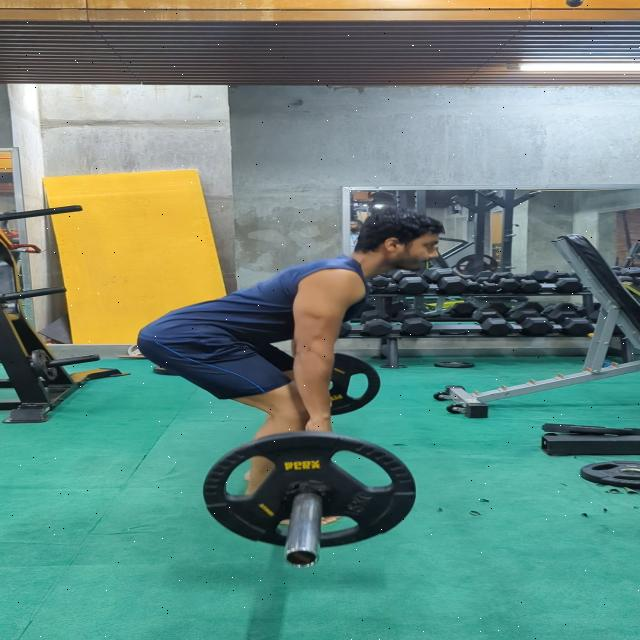Normal_Deadlifts: (131, 208, 460, 526)
